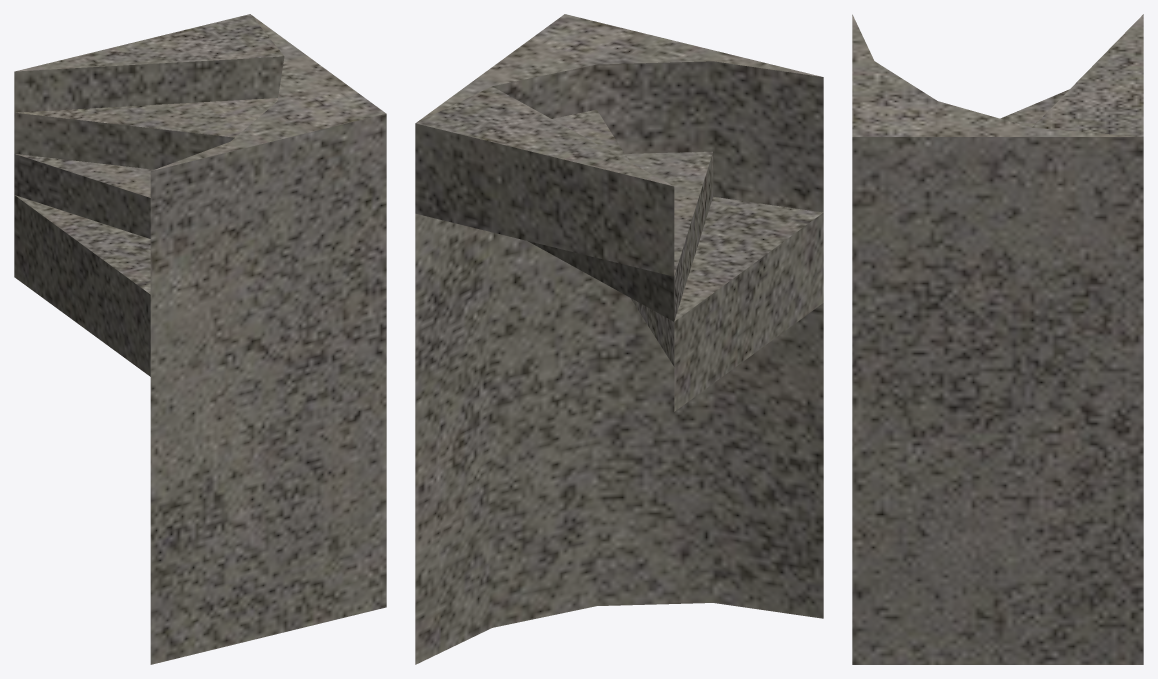
File: WF_SpiralStairsR1mC.obj
The picture shows the model from 3 angles, left to right: view 1: azimuth 30°, elevation 25°; view 2: azimuth 150°, elevation 25°; view 3: azimuth 270°, elevation 25°; orthographic projection. The views are drawn at different scales.
Visible parts, largest first — view 1: object 2, unnamed_object1; view 2: object 2, unnamed_object1; view 3: object 2, unnamed_object1.
Boxes of the visible parts, x1,y1,x2,y2 form: object 2: (150, 14, 386, 664); unnamed_object1: (14, 14, 284, 376); object 2: (415, 14, 823, 664); unnamed_object1: (415, 86, 823, 411); object 2: (852, 14, 1143, 664); unnamed_object1: (1000, 14, 1143, 136).
Bounding box in the file's own units: 1 × 2 × 1.
1 material, 1 textured.
